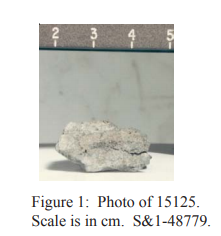Basalt: (45, 94, 159, 175)
